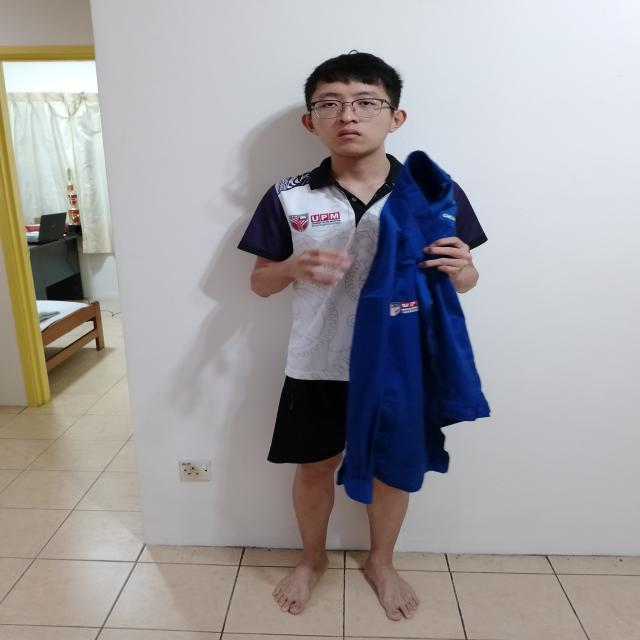person_without_labcoat: (238, 53, 490, 621)
